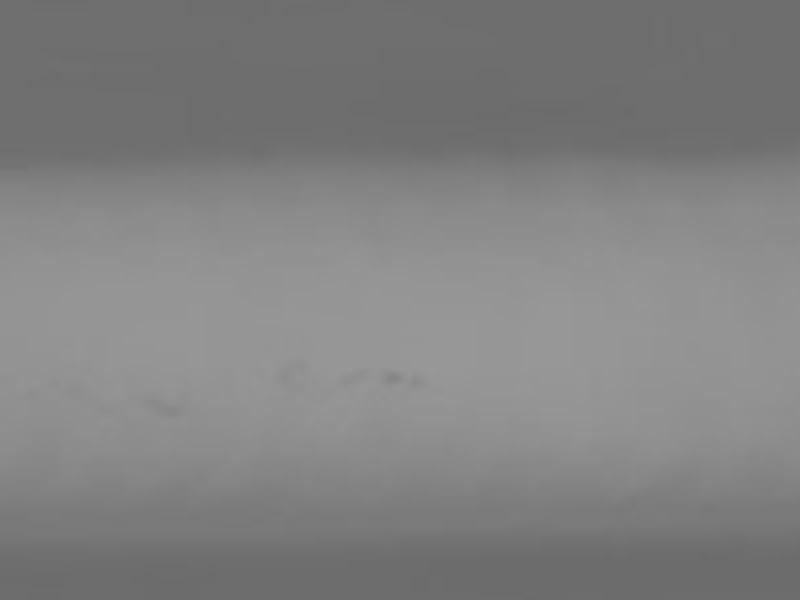defect: (272, 361, 316, 393), (142, 391, 186, 421), (335, 366, 367, 386), (378, 365, 403, 385), (408, 369, 432, 389)
